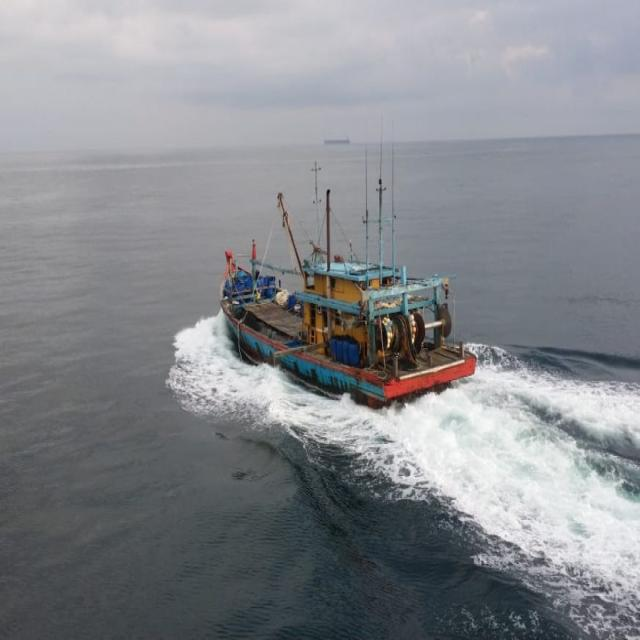Fishing Boat: (267, 94, 531, 353)
